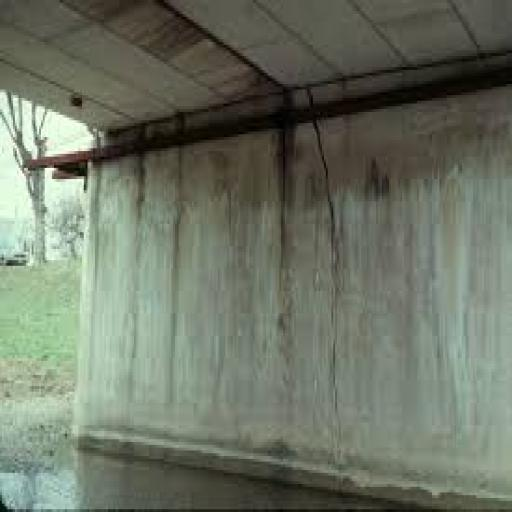spalling: (315, 120, 344, 478)
